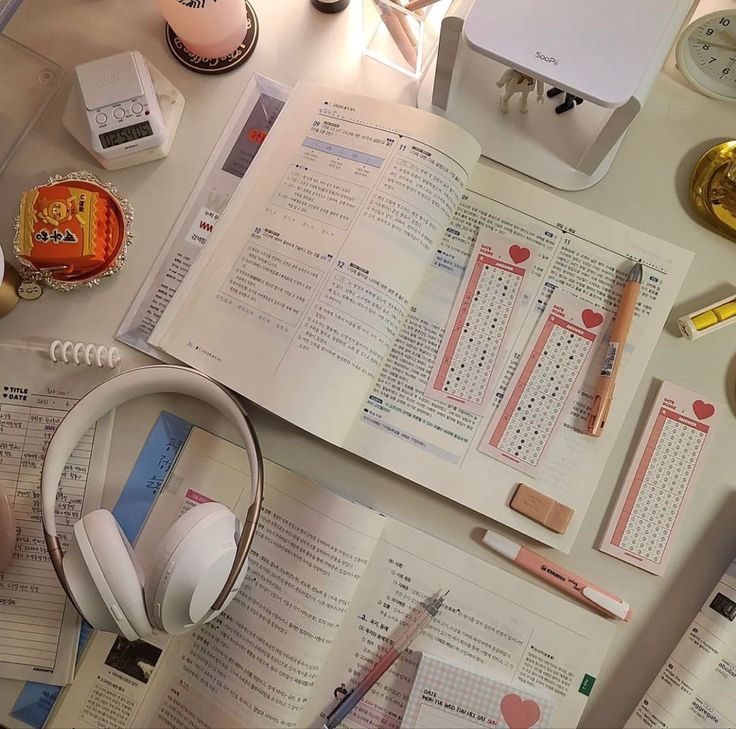not a gesture sign: (53, 351, 344, 644)
